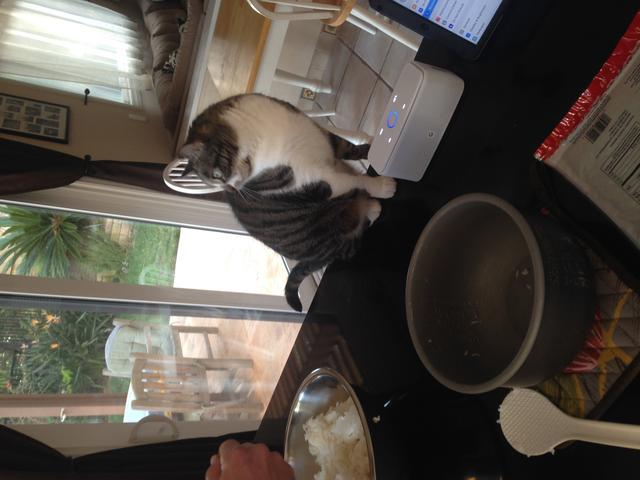playdoh: (174, 92, 394, 312)
